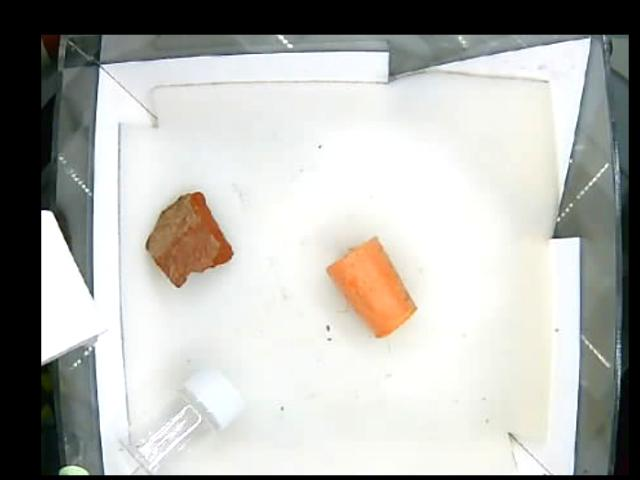Bottle: (123, 366, 248, 474)
Brisk: (145, 191, 234, 290)
Carrot: (324, 232, 415, 338)
